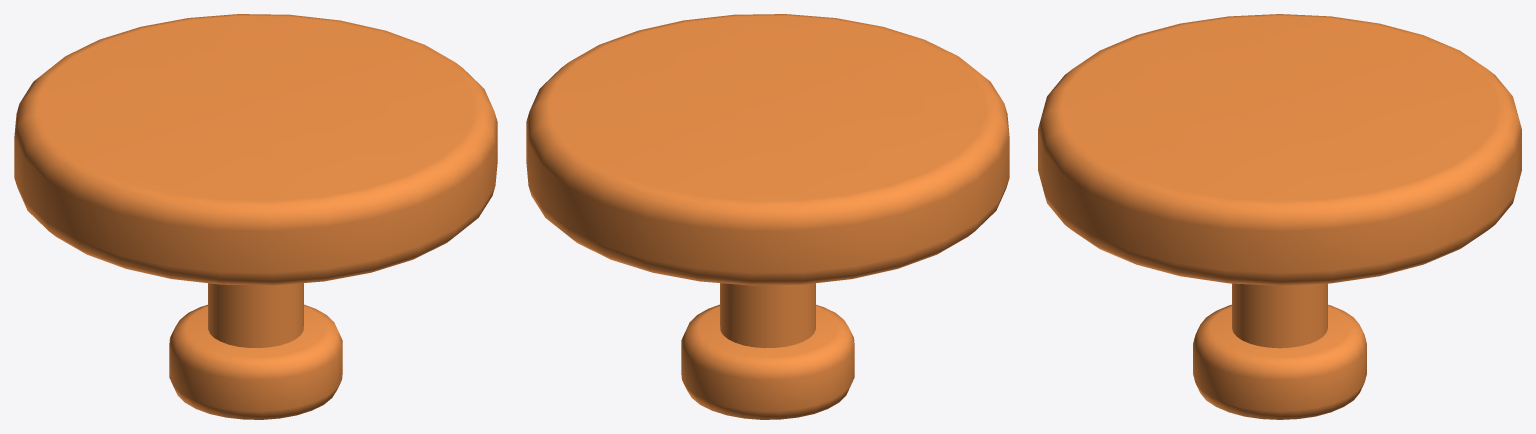
The model's file is RoundTable_orange.glb.
3 renders of one model, left to right at view 1: azimuth 30°, elevation 25°; view 2: azimuth 150°, elevation 25°; view 3: azimuth 270°, elevation 25°, orthographic.
Visible parts, largest first — view 1: Table_6; view 2: Table_6; view 3: Table_6.
Boxes of the visible parts, x1,y1,x2,y2 form: Table_6: (14,14,497,419); Table_6: (526,14,1009,419); Table_6: (1038,14,1521,419).
Bounding box in the file's own units: 1.07 × 0.6881 × 1.07.
Materials: 1 (1 with a texture image).
